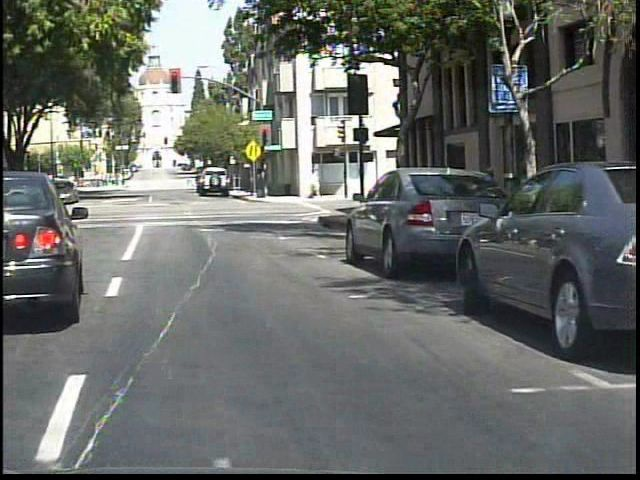person: (12, 172, 32, 211), (2, 175, 4, 212)
